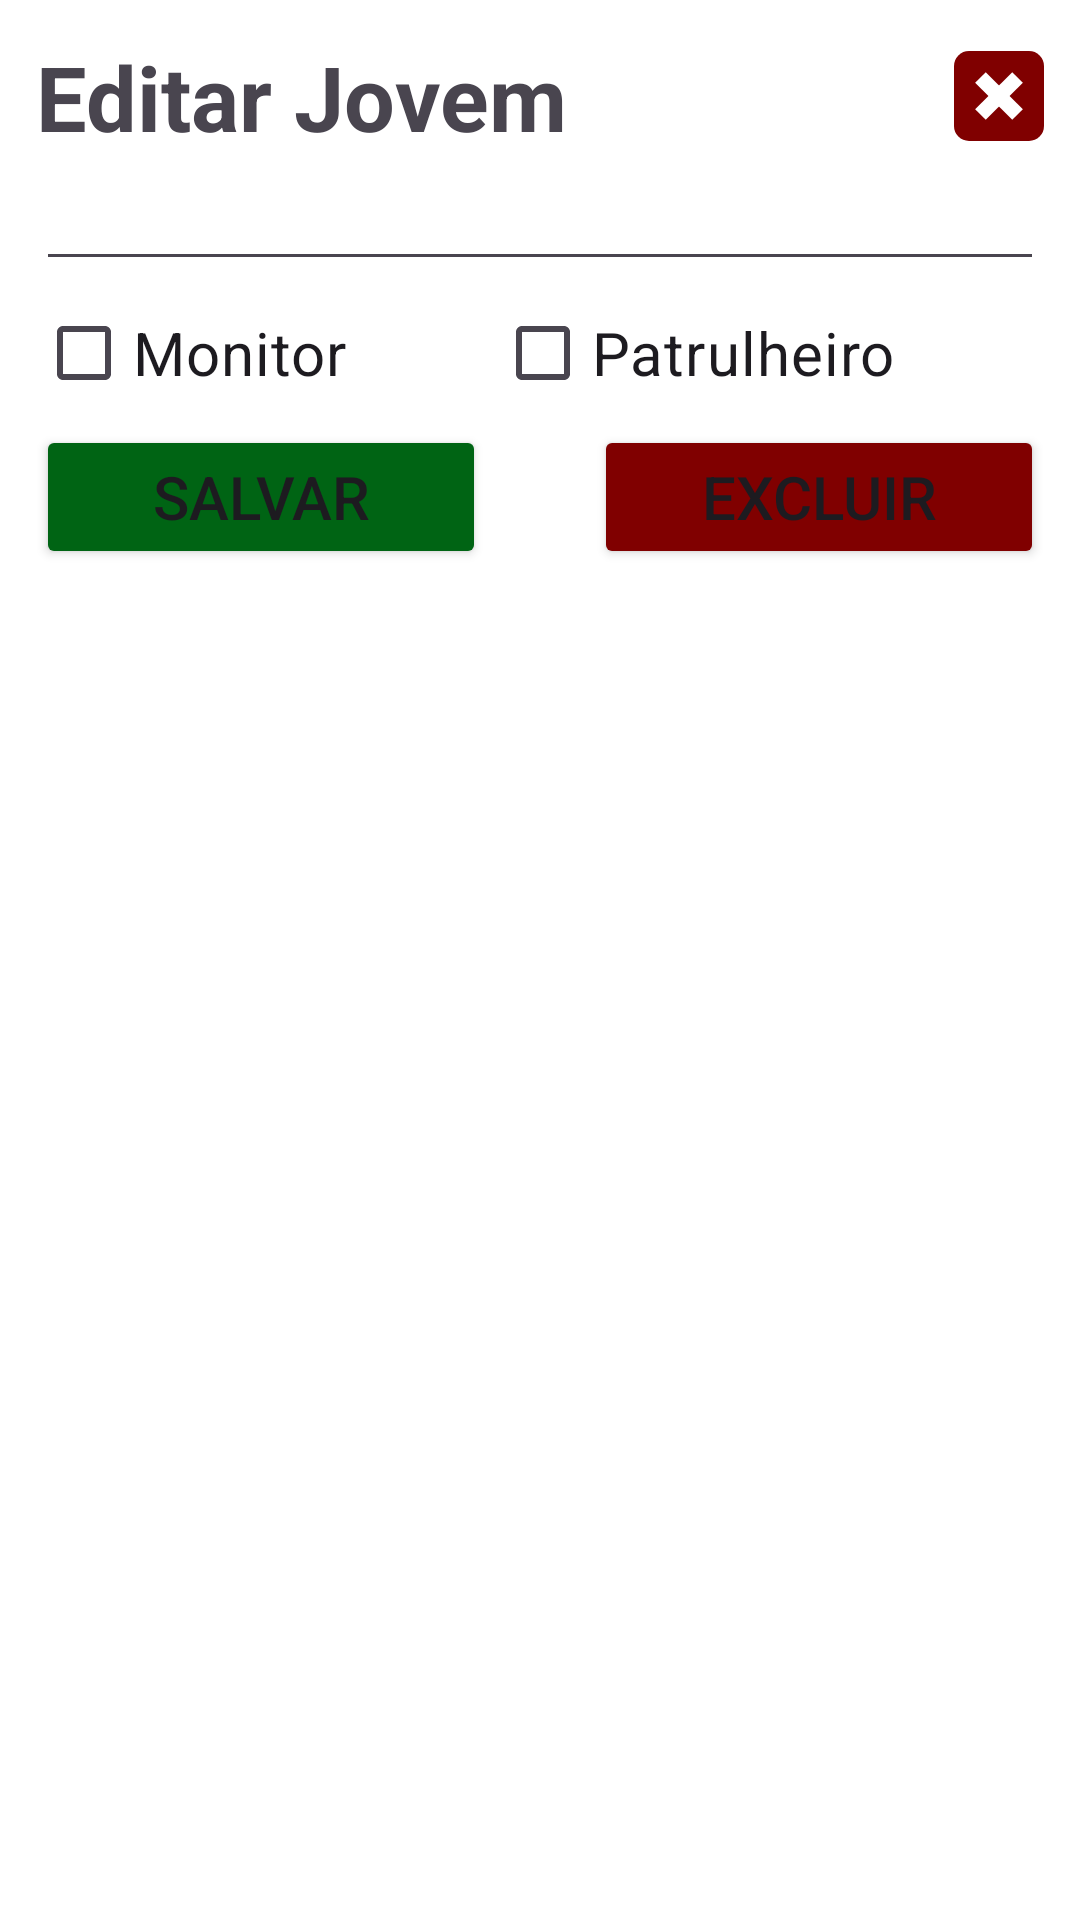

Icons on this 1080×1920 Android screen, each with the point to tap as point (x, y):
close: point (999, 96)
